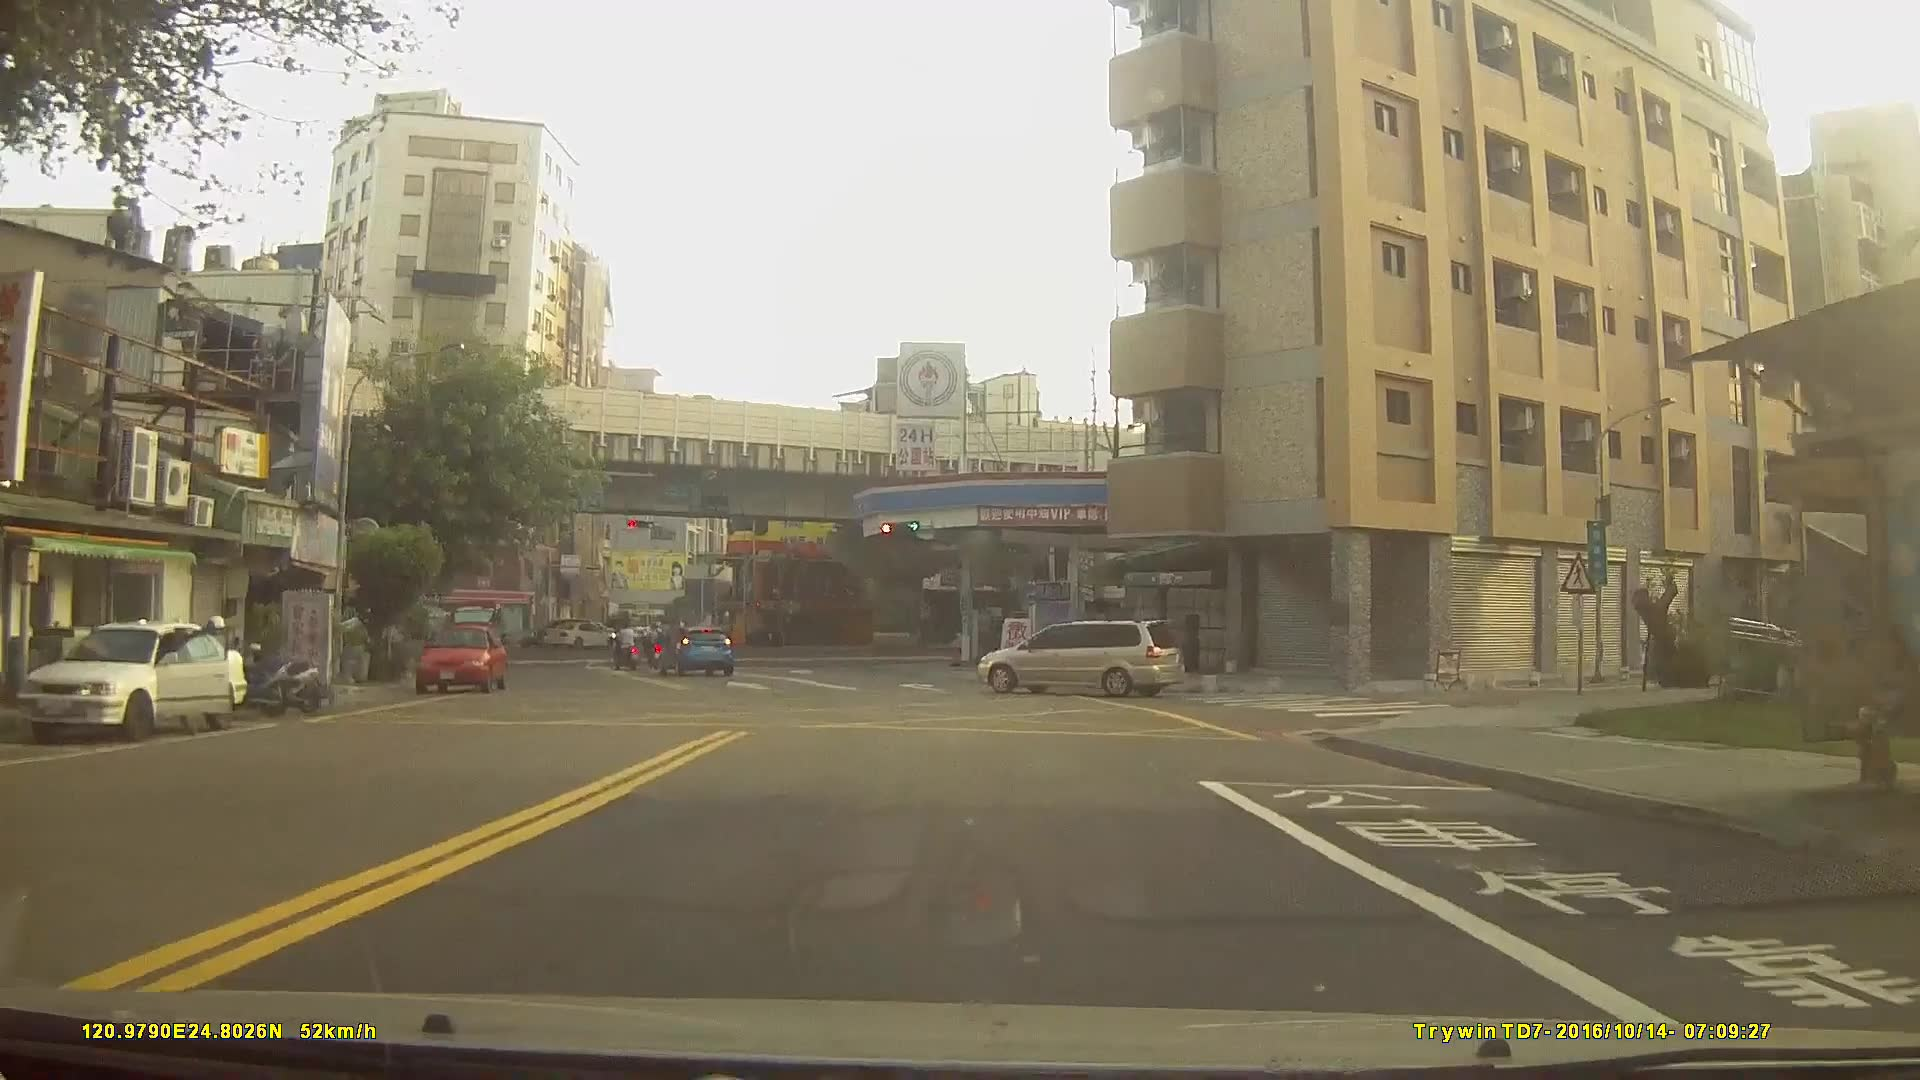pedestrian: (1849, 631, 1920, 801)
rider: (608, 616, 638, 668)
vehicle: (18, 621, 249, 742), (974, 618, 1184, 695), (412, 624, 508, 695), (654, 626, 734, 677), (516, 611, 587, 643), (542, 619, 618, 649)
